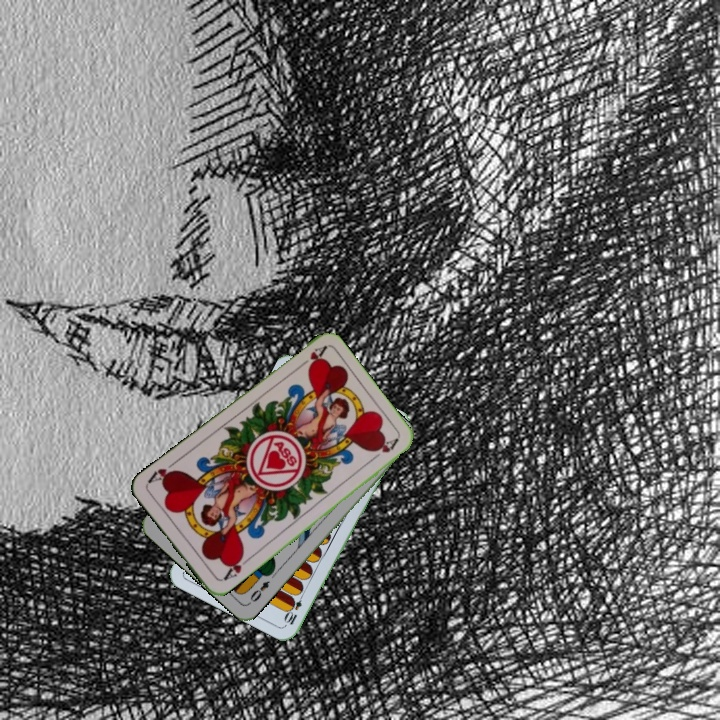E10: (281, 588, 307, 627)
EO: (246, 577, 272, 604)
HA: (218, 551, 253, 584), (293, 342, 328, 372)
